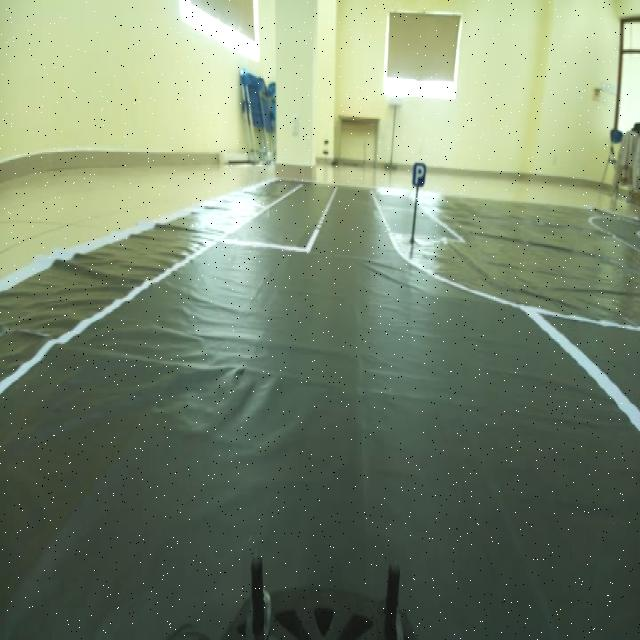parking: (411, 157, 434, 196)
